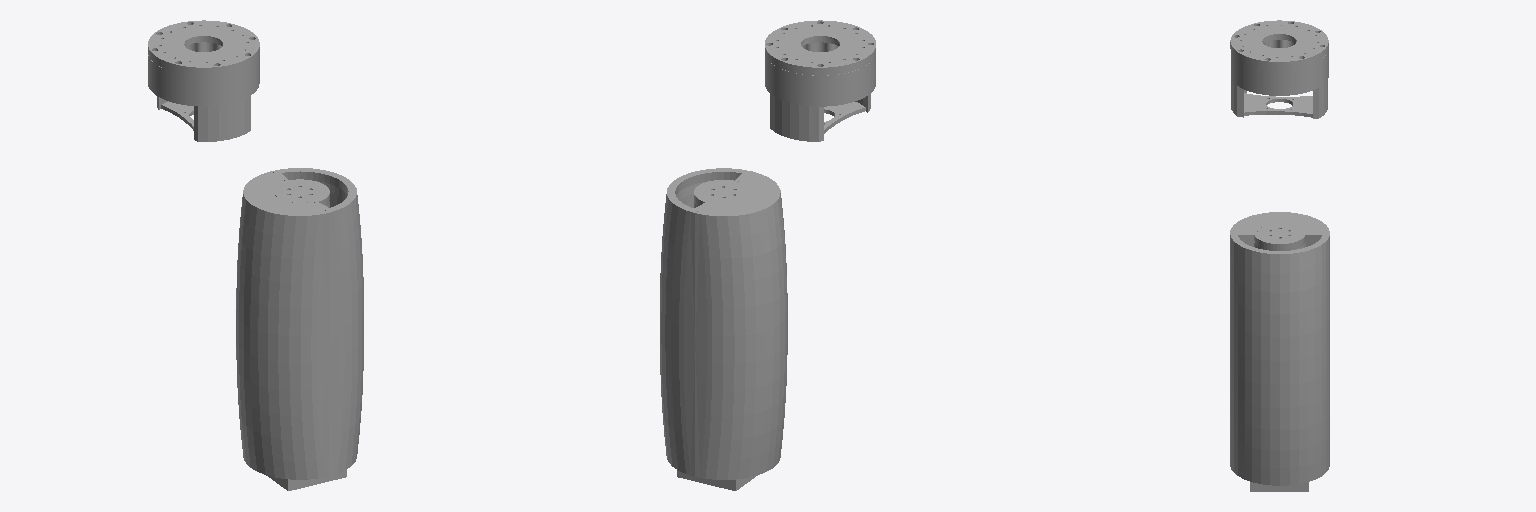
robot.urdf — robotarm:
<robot
  name="robotarm">
  <link
    name="base_link">
    <inertial>
      <origin
        xyz="0 0 0"
        rpy="0 0 0" />
      <mass
        value="0.0785942338762368" />
      <inertia
        ixx="0.0123841200738068"
        ixy="-0.000187984913202787"
        ixz="-1.32683892634308E-06"
        iyy="7.0169034503364E-05"
        iyz="-9.17416945099319E-05"
        izz="0.0123862261905614" />
    </inertial>
    <visual>
      <origin
        xyz="0 0 0"
        rpy="0 0 0" />
      <geometry>
        <mesh
          filename="./meshes/base_link.stl" />
      </geometry>
      <material
        name="">
        <color
          rgba="0.7 0.7 0.7 1" />
      </material>
    </visual>
    <collision>
      <origin
        xyz="0 0 0"
        rpy="0 0 0" />
      <geometry>
        <mesh
          filename="./meshes/base_link.stl" />
      </geometry>
    </collision>
  </link>
  <link
    name="link_1">
    <inertial>
      <origin
        xyz="0 0 0"
        rpy="0 0 0" />
      <mass
        value="0.0785942338762368" />
      <inertia
        ixx="0.0123841200738068"
        ixy="0.000187984913202727"
        ixz="-1.32683892634271E-06"
        iyy="7.01690345033622E-05"
        iyz="9.17416945099368E-05"
        izz="0.0123862261905615" />
    </inertial>
    <visual>
      <origin
        xyz="0 0 0"
        rpy="0 0 0" />
      <geometry>
        <mesh
          filename="./meshes/link_1.stl" />
      </geometry>
      <material
        name="">
        <color
          rgba="0.7 0.7 0.7 1" />
      </material>
    </visual>
    <collision>
      <origin
        xyz="0 0 0"
        rpy="0 0 0" />
      <geometry>
        <mesh
          filename="./meshes/link_1.stl" />
      </geometry>
    </collision>
  </link>
  <joint name="SH1" type="revolute">
    <origin xyz="0 0 0" rpy="0 0 0"/>  <!-- Adjusted for Y-axis -->
    <parent link="base_link"/>
    <child link="link_1"/>
    <axis xyz="0 0 1"/>  <!-- Keep rotation axis along Y -->
    <limit
      lower="-3.15"
      upper="3.15"
      effort="0.5"
      velocity="1.0" />
  </joint>
  <link
    name="link_2">
    <inertial>
     <origin xyz="0 0 0" rpy="0 0 0"/>
      <mass
        value="0.0785942338762368" />
      <inertia
        ixx="0.0122070242873091"
        ixy="0.000930596667670934"
        ixz="-0.0011486325666074"
        iyy="0.007576065624266"
        iyz="0.0059380539105297"
        izz="0.00505742538729646" />
    </inertial>
    <visual>
      <origin
        xyz="0 0 0"
        rpy="0 0 0" />
      <geometry>
        <mesh
          filename="./meshes/link_2.stl" />
      </geometry>
      <material
        name="">
        <color
          rgba="0.7 0.7 0.7 1" />
      </material>
    </visual>
    <collision>
      <origin
        xyz="0 0 0"
        rpy="0 0 0" />
      <geometry>
        <mesh
          filename="./meshes/link_2.stl" />
      </geometry>
    </collision>
  </link>
  <joint
    name="SH2"
    type="revolute">
    <origin xyz="0 0 1" rpy="0 0 0"/>
    <parent link="link_1"/>
    <child link="link_2"/>
    <axis xyz="1 0 0"/>  <!-- Might be wrong -->
    <limit
      lower="-3.15"
      upper="3.15"
      effort="0.5"
      velocity="1.0" />
</joint>

  <link
    name="link_3">
    <inertial>
      <origin
        xyz="0 0 0"
        rpy="0 0 0" />
      <mass
        value="0.0785942338762368" />
      <inertia
        ixx="0.0123841200738068"
        ixy="0.000187984913202718"
        ixz="1.32683892634266E-06"
        iyy="7.01690345033619E-05"
        iyz="-9.17416945099381E-05"
        izz="0.0123862261905615" />
    </inertial>
    <visual>
      <origin
        xyz="0 0 0"
        rpy="0 0 0" />
      <geometry>
        <mesh
          filename="./meshes/link_3.stl" />
      </geometry>
      <material
        name="">
        <color
          rgba="0.7 0.7 0.7 1" />
      </material>
    </visual>
    <collision>
      <origin
        xyz="0 0 0"
        rpy="0 0 0" />
      <geometry>
        <mesh
          filename="./meshes/link_3.stl" />
      </geometry>
    </collision>
  </link>
  <joint
    name="SH3"
    type="revolute">
    <origin
      xyz="1.15 0 0.3"
      rpy="0 0 0" />
    <parent
      link="link_2" />
    <child
      link="link_3" />
    <axis
      xyz="0 0 1" />
    <limit
        lower="-3.15"
        upper="3.15"
        effort="0.5"
        velocity="1.0" />
  </joint>
  <link
    name="link_4">
    <inertial>
      <origin
        xyz="0 0 0"
        rpy="0 0 0" />
      <mass
        value="0.0785942338762368" />
      <inertia
        ixx="0.0123841200738068"
        ixy="0.000187984913202718"
        ixz="1.32683892634266E-06"
        iyy="7.01690345033619E-05"
        iyz="-9.17416945099381E-05"
        izz="0.0123862261905615" />
    </inertial>
    <visual>
      <origin
        xyz="0 0 0"
        rpy="0 0 0" />
      <geometry>
        <mesh
          filename="./meshes/link_4.stl" />
      </geometry>
      <material
        name="">
        <color
          rgba="0.7 0.7 0.7 1" />
      </material>
    </visual>
    <collision>
      <origin
        xyz="0 0 0"
        rpy="0 0 0" />
      <geometry>
        <mesh
          filename="./meshes/link_4.stl" />
      </geometry>
    </collision>
  </link>
    <joint
    name="EL1"
    type="revolute">
    <origin
      xyz="0 0 -2.8"
      rpy="0 0 0" />
    <parent
      link="link_3" />
    <child
      link="link_4" />
    <axis
      xyz="0 1 0" />
      <limit
        lower="-3.15"
        upper="3.15"
        effort="0.5"
        velocity="1.0" />
  </joint>
  <link
    name="link_5">
    <inertial>
      <origin
        xyz="0.00457048841401063 0.0962524890074447 0.00395442197852662"
        rpy="0 0 0" />
      <mass
        value="0.0785942338762368" />
      <inertia
        ixx="0.0123841200738068"
        ixy="0.000187984913202718"
        ixz="1.32683892634266E-06"
        iyy="7.01690345033619E-05"
        iyz="-9.17416945099381E-05"
        izz="0.0123862261905615" />
    </inertial>
    <visual>
      <origin
        xyz="0 0 0"
        rpy="0 0 0" />
      <geometry>
        <mesh
          filename="./meshes/link_5.stl" />
      </geometry>
      <material
        name="">
        <color
          rgba="0.7 0.7 0.7 1" />
      </material>
    </visual>
    <collision>
      <origin
        xyz="0 0 0"
        rpy="0 0 0" />
      <geometry>
        <mesh
          filename="./meshes/link_5.stl" />
      </geometry>
    </collision>
  </link>
    <joint name="joint_5" type="fixed">
    <origin xyz="0 0 -3" rpy="0 0 0" /> <!-- Offset along X-axis to place at end of link_3 -->
    <parent link="link_4" />
    <child link="link_5" />
    <axis xyz="0 0 0" /> <!-- Not used for fixed joint -->
  </joint>
</robot>

--- Facts derived from the render (not from the file) ---
The picture shows the robot from 3 angles, left to right: view 1: azimuth 30°, elevation 25°; view 2: azimuth 150°, elevation 25°; view 3: azimuth 270°, elevation 25°; orthographic projection.
Robot: robotarm — 6 links, 5 joints (4 revolute, 1 fixed); root link base_link; default pose: all joints at 0.
Links seen in each view (by area): view 1: link_4, base_link, link_5; view 2: link_4, base_link; view 3: link_4, base_link.
Link boxes in pixels (left/top/right/bottom): link_4: left=236, top=168, right=363, bottom=479; base_link: left=148, top=20, right=259, bottom=141; link_5: left=266, top=470, right=346, bottom=490; link_4: left=660, top=168, right=787, bottom=479; base_link: left=765, top=20, right=875, bottom=141; link_4: left=1230, top=212, right=1329, bottom=485; base_link: left=1230, top=20, right=1328, bottom=118.
Size in the robot's own frame: 2.39 by 1.17 by 5.11 metres.
Meshes: 6 distinct files referenced, 3 mesh visuals loaded (3 binary STL); not drawn: 3 (reference not matched to a file when rendering).